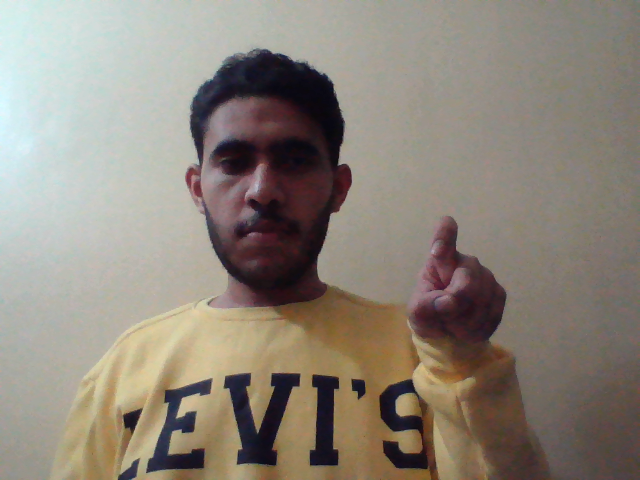X: (404, 210, 511, 362)
